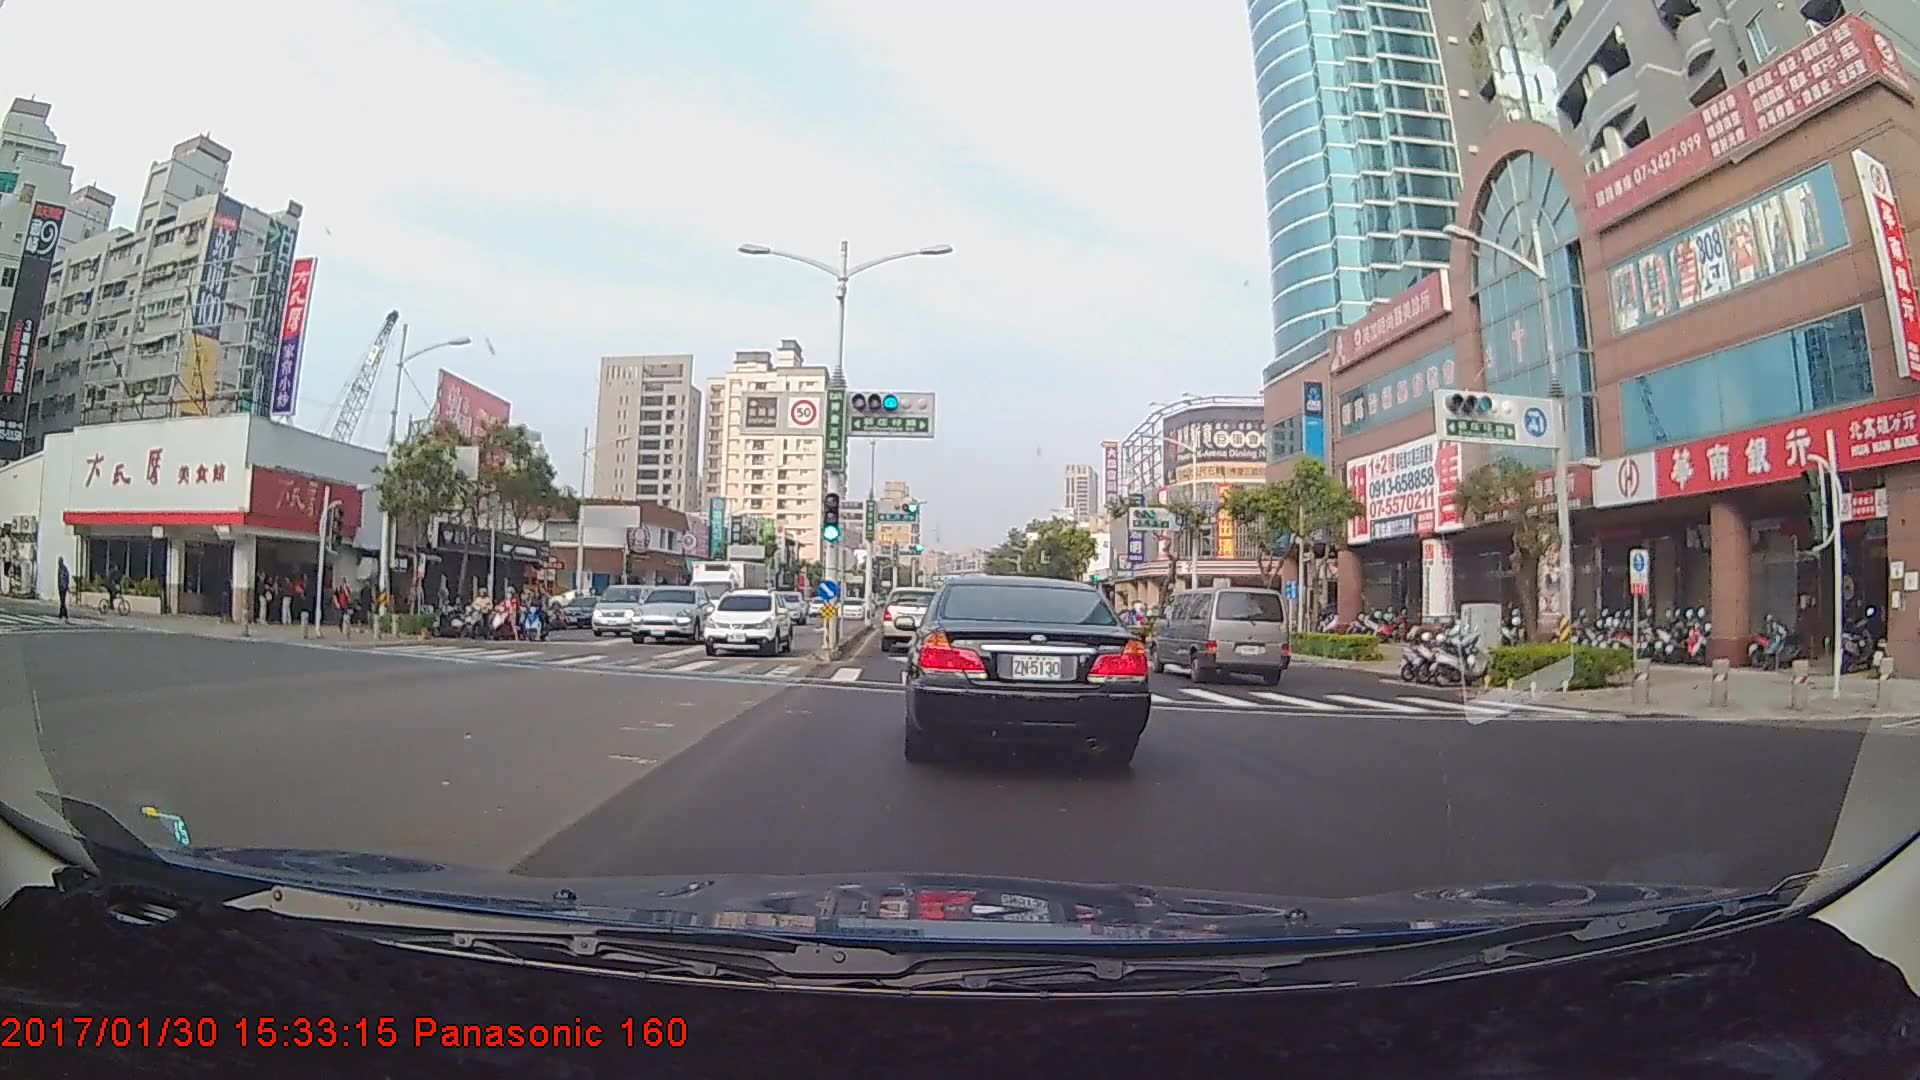pedestrian: (54, 553, 75, 622), (329, 577, 353, 633), (256, 568, 276, 629), (278, 573, 299, 628)
rider: (513, 584, 555, 644), (96, 569, 139, 618), (482, 584, 519, 640), (461, 586, 497, 642)
vehicle: (905, 568, 1145, 764), (1155, 585, 1288, 689), (690, 553, 771, 636), (703, 589, 794, 655), (628, 585, 708, 645), (881, 582, 949, 650), (589, 580, 653, 636)
